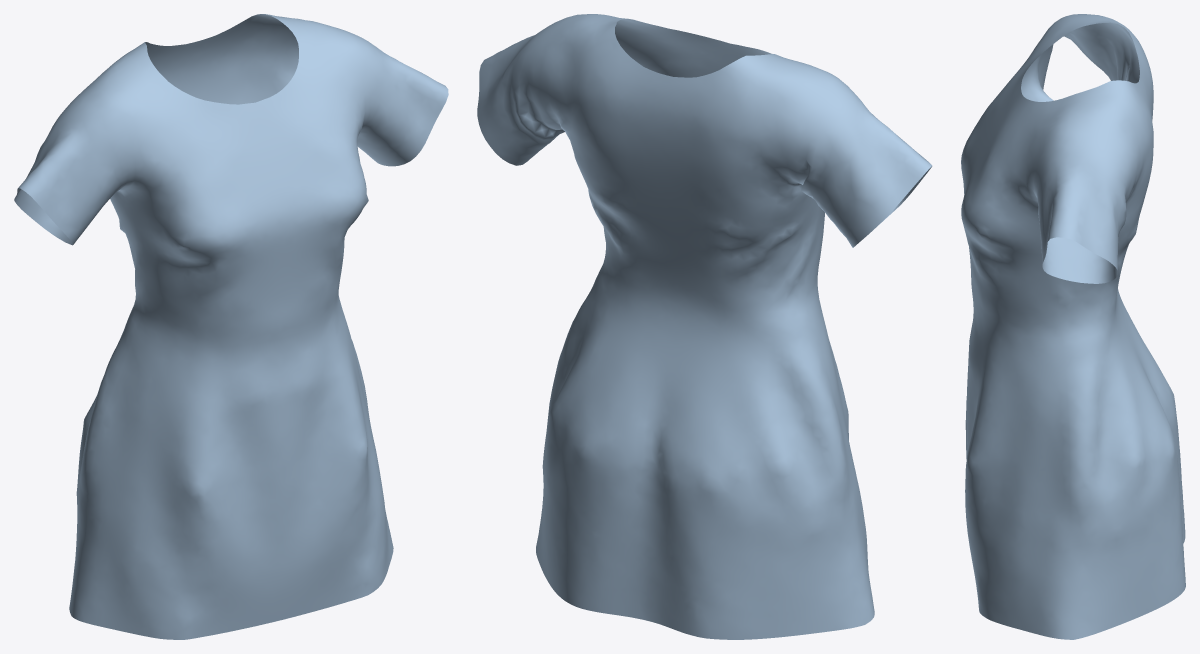
Rendered from dress_M.glb.
3 renders of one model, left to right at view 1: azimuth 30°, elevation 25°; view 2: azimuth 150°, elevation 25°; view 3: azimuth 270°, elevation 25°, orthographic. The views are drawn at different scales.
Parts seen in each view (by area): view 1: geometry_0; view 2: geometry_0; view 3: geometry_0.
Boxes of the visible parts, x1=… form: geometry_0: x1=14, y1=14, x2=448, y2=639; geometry_0: x1=477, y1=14, x2=932, y2=639; geometry_0: x1=961, y1=14, x2=1185, y2=639.
Size of the model in its own units: 0.6023 by 0.73 by 0.2858.
